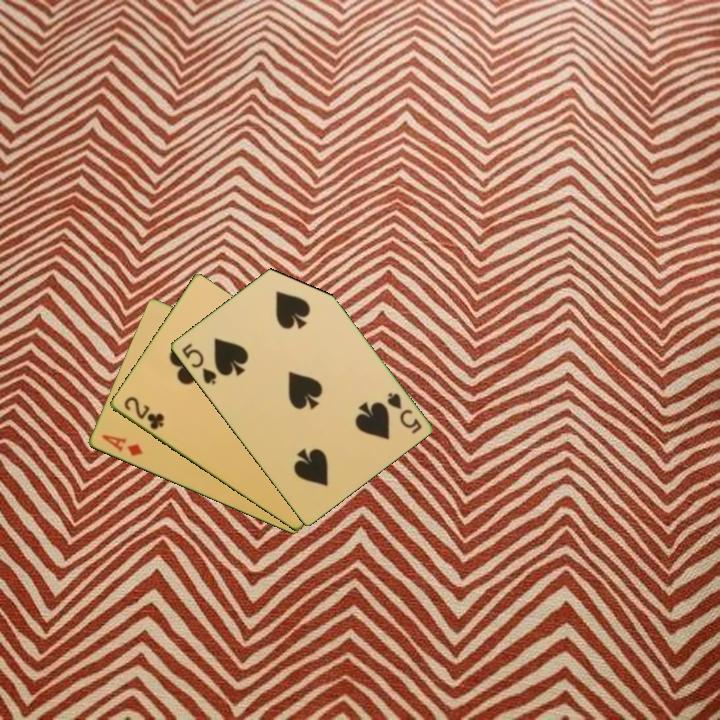2c: (120, 393, 167, 433)
5s: (178, 340, 219, 388), (383, 389, 424, 437)
Ad: (98, 431, 146, 459)
